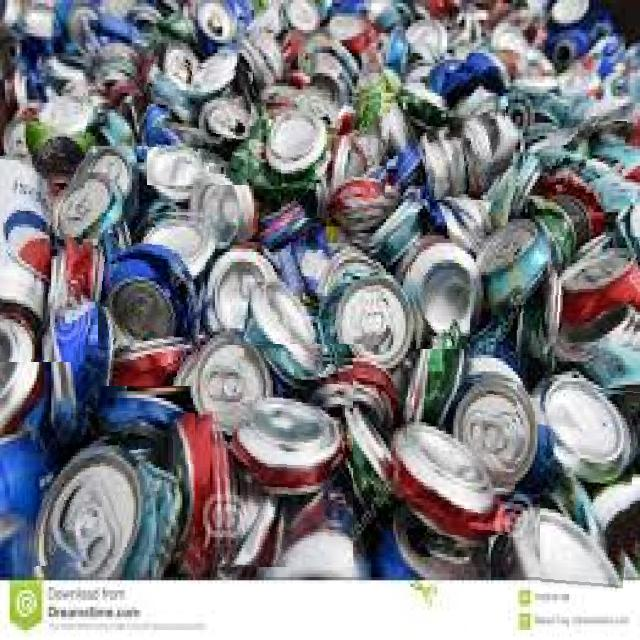Cans: (212, 351, 353, 567), (25, 413, 195, 567), (0, 103, 87, 362), (540, 384, 640, 594), (98, 207, 211, 386), (230, 209, 379, 344), (406, 374, 517, 535), (513, 237, 640, 359), (281, 90, 391, 218), (148, 61, 254, 185), (426, 102, 506, 200), (406, 241, 470, 349), (556, 121, 628, 197)
